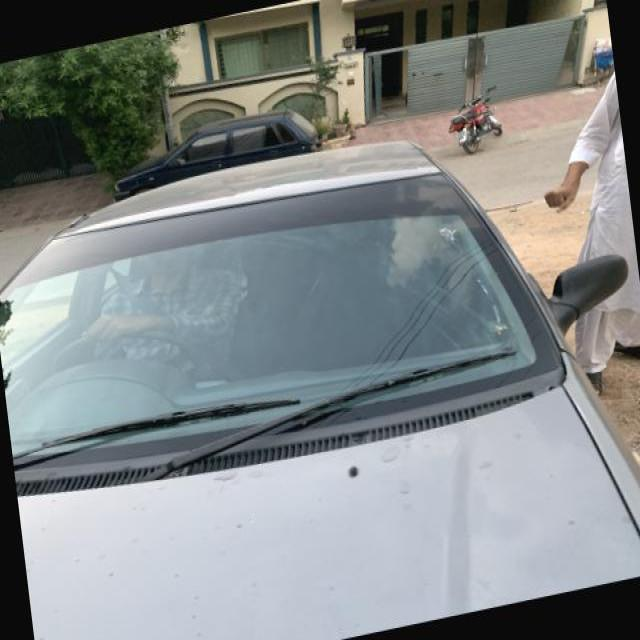seatbelt: (103, 282, 276, 406)
